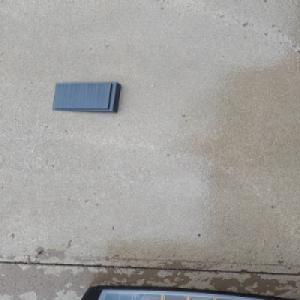PlasticPart: (50, 81, 121, 113)
